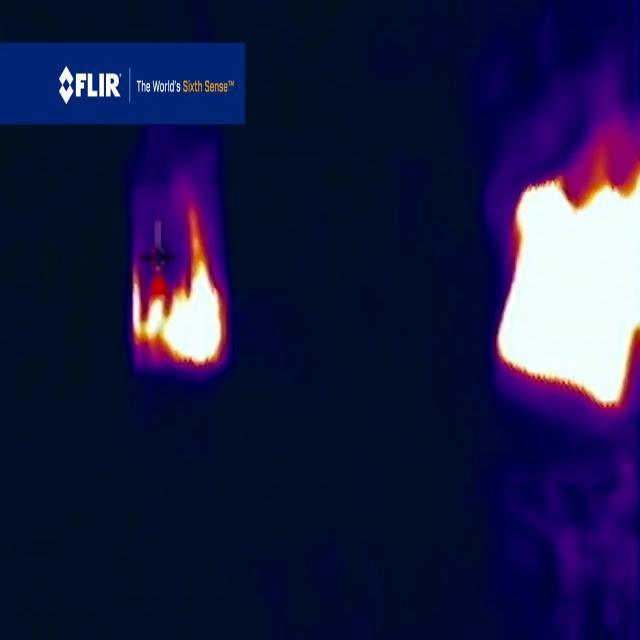fire: (496, 146, 640, 413), (134, 206, 228, 377)
